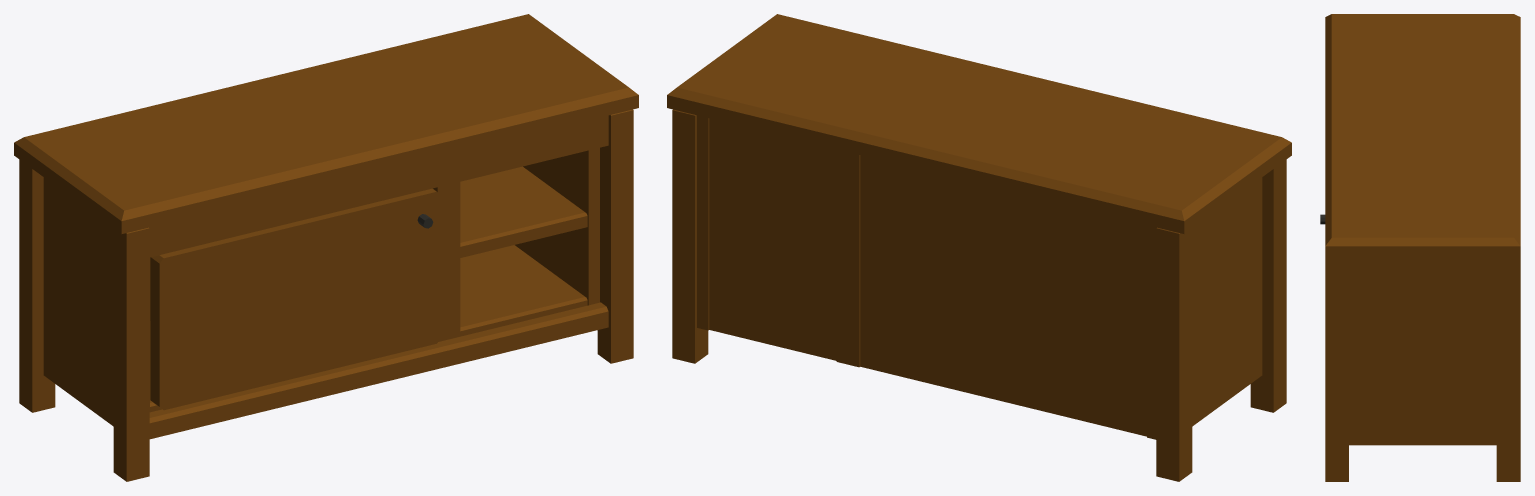
File: SM_Furniture_PrepCounter_Cabinet_01.fbx
3 renders of one model, left to right at view 1: azimuth 30°, elevation 25°; view 2: azimuth 150°, elevation 25°; view 3: azimuth 270°, elevation 25°, orthographic. The views are drawn at different scales.
Parts seen in each view (by area): view 1: SM_Furniture_PrepCounter_Cabinet_01; view 2: SM_Furniture_PrepCounter_Cabinet_01; view 3: SM_Furniture_PrepCounter_Cabinet_01.
Part boxes in pixels (x1,y1,x2,y2): SM_Furniture_PrepCounter_Cabinet_01: [14, 14, 638, 481]; SM_Furniture_PrepCounter_Cabinet_01: [667, 14, 1291, 481]; SM_Furniture_PrepCounter_Cabinet_01: [1320, 14, 1520, 481].
Bounding box in the file's own units: 1.25 × 0.62 × 0.461.
1 material, 1 textured.
